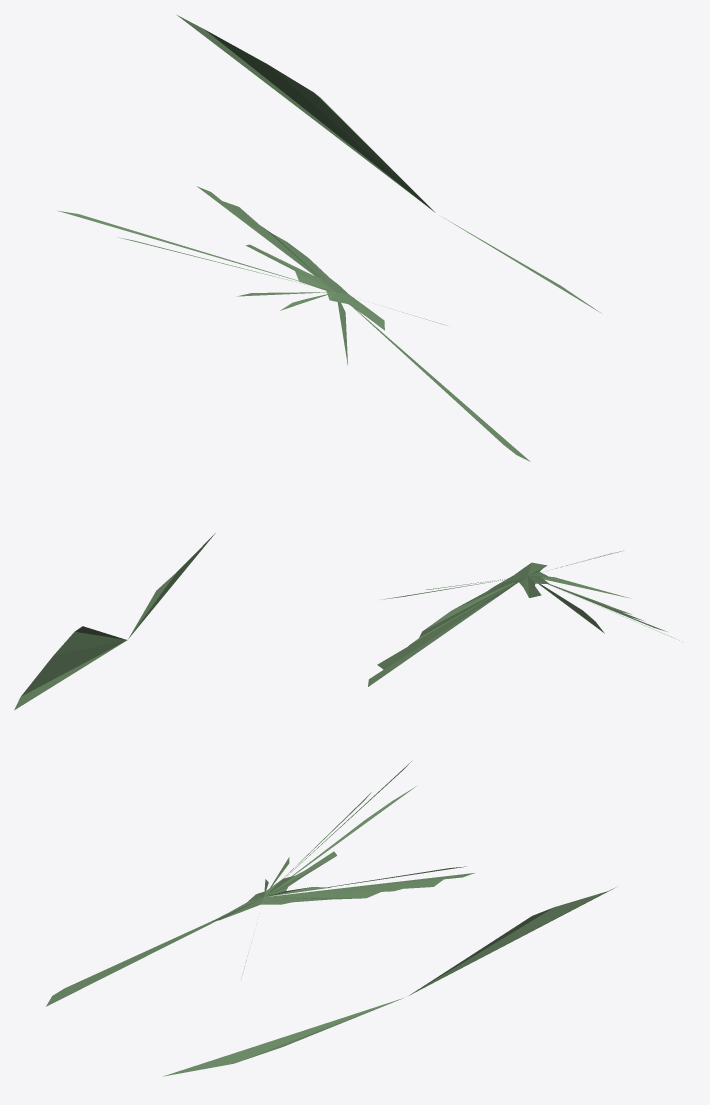
Rendered from c_1672_17819_forest.glb.
3 views of the same model, one above another, from view 1: azimuth 30°, elevation 25°; view 2: azimuth 150°, elevation 25°; view 3: azimuth 270°, elevation 25° (orthographic). The views are drawn at different scales.
Visible parts, largest first — view 1: geometry_0; view 2: geometry_0; view 3: geometry_0.
Part boxes in pixels (box(x1,y1,x2,y2)): geometry_0: box(57, 15, 601, 461); geometry_0: box(14, 533, 679, 710); geometry_0: box(46, 760, 617, 1076).
Bounding box in the file's own units: 721 × 231 × 919.
